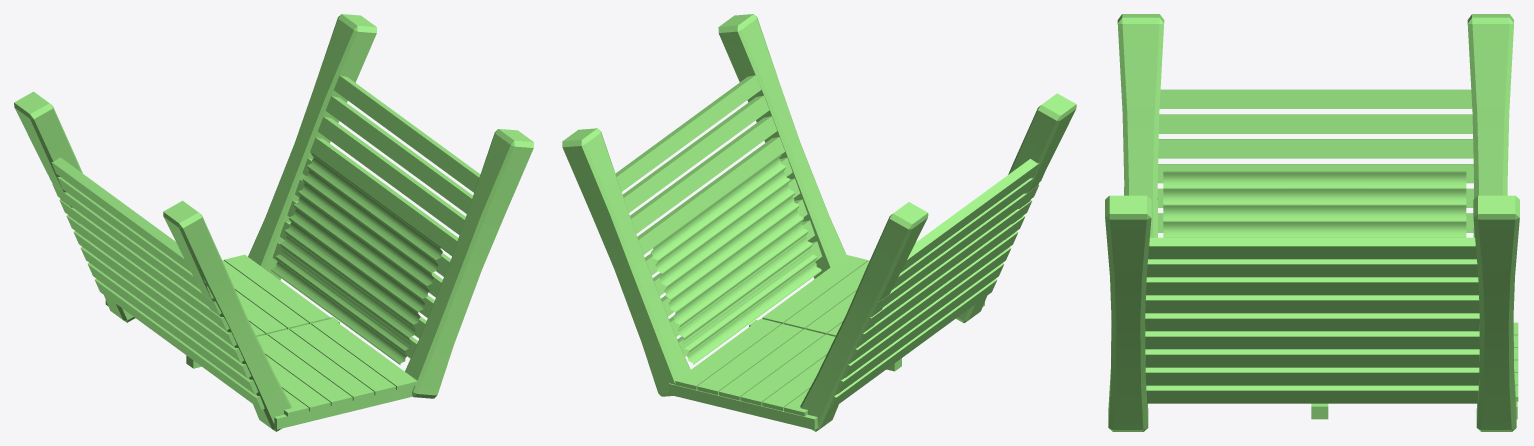
The model's file is Trench02.fbx.
3 views of the same model, side by side, from view 1: azimuth 30°, elevation 25°; view 2: azimuth 150°, elevation 25°; view 3: azimuth 270°, elevation 25° (orthographic). The views are drawn at different scales.
Parts seen in each view (by area): view 1: Trench02; view 2: Trench02; view 3: Trench02.
Part boxes in pixels (x1=…): Trench02: x1=14, y1=14, x2=533, y2=431; Trench02: x1=562, y1=14, x2=1076, y2=431; Trench02: x1=1105, y1=14, x2=1519, y2=431.
Size of the model in its own units: 374 by 246 by 328.
